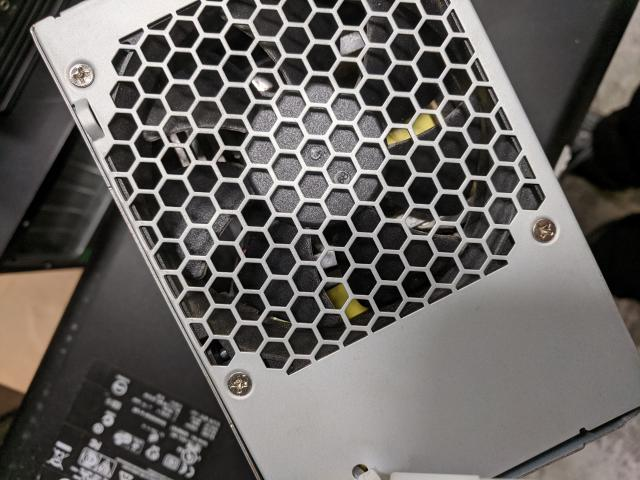CRS: (530, 216, 559, 243), (68, 61, 94, 88), (226, 372, 253, 397)
